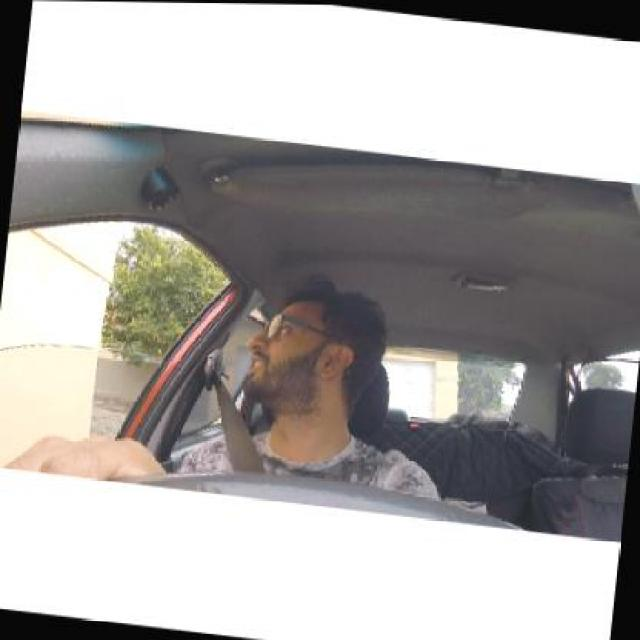LeftRight: (236, 277, 384, 420)
